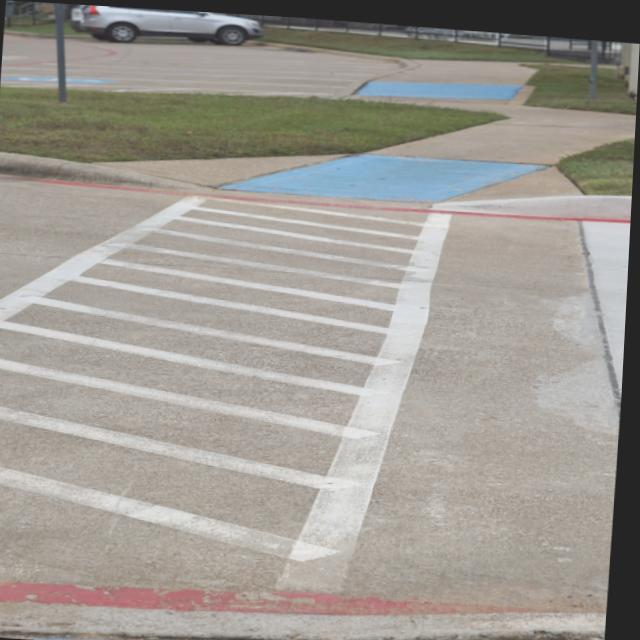Automobile: (79, 4, 262, 42)
Obstacle: (54, 3, 67, 101)
Road: (0, 175, 632, 637), (67, 38, 394, 91), (1, 33, 56, 85)
Sidewalk: (105, 55, 637, 197)
